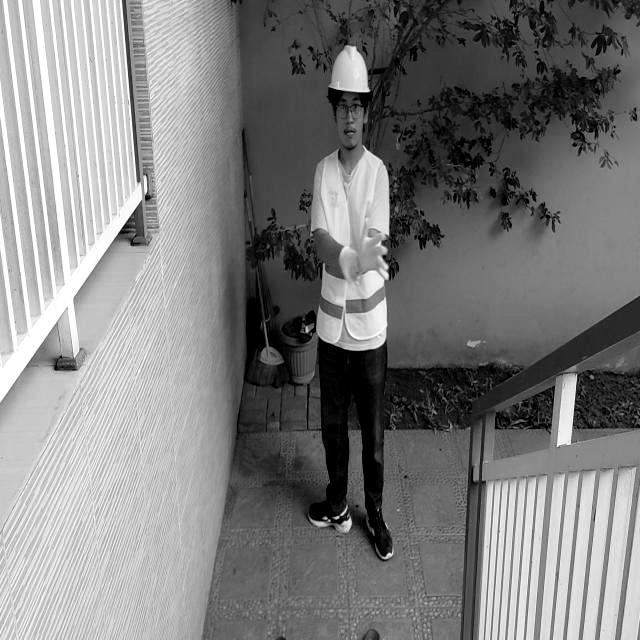No-Boots: (306, 492, 356, 533), (366, 509, 398, 559)
Vest: (318, 149, 389, 349)
